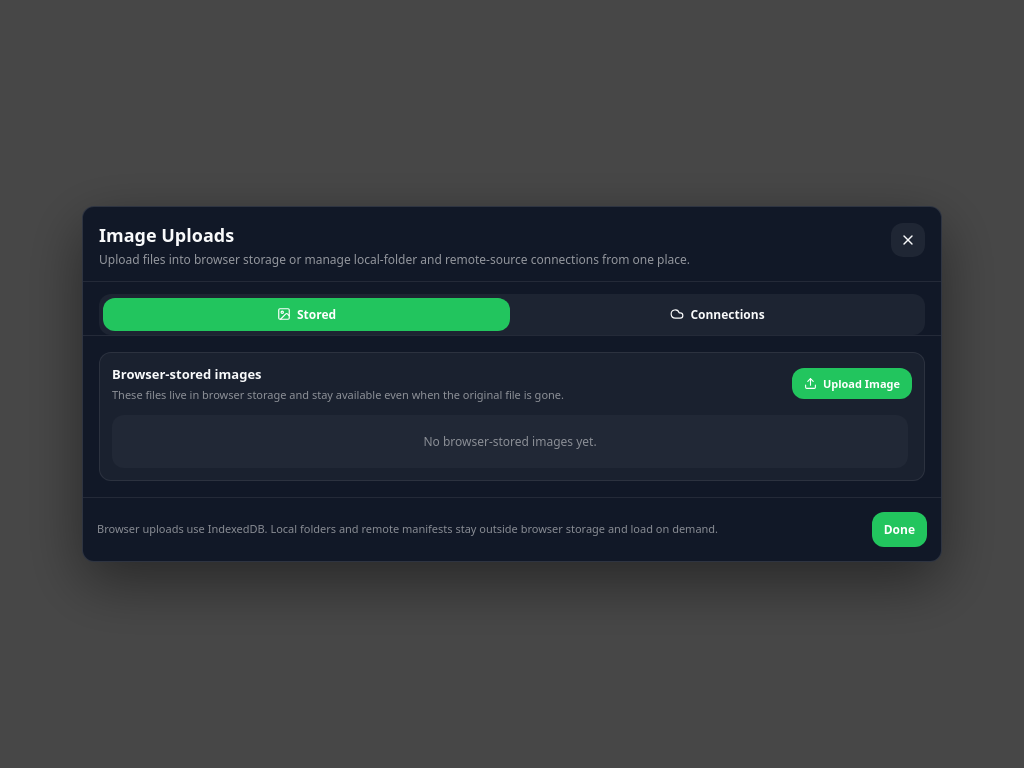
Test case: embeds remote source configuration inside the media uploads modal
Click the button "Connections".
click(718, 314)  # box [514,298,921,331]
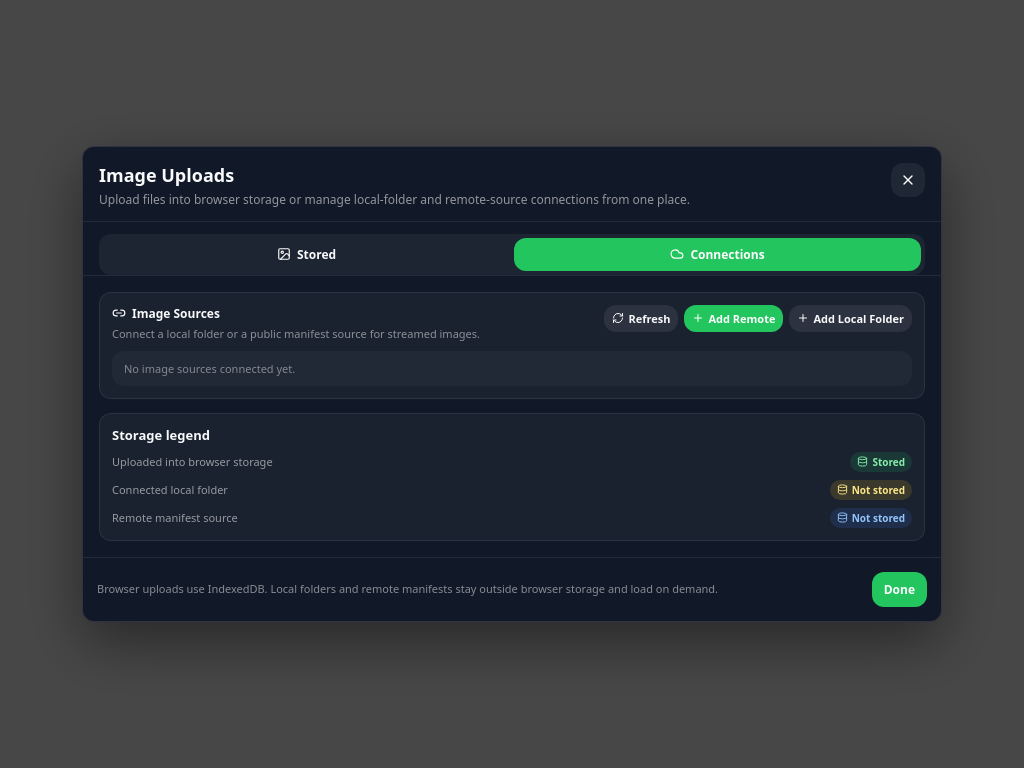
Click the button "Add Remote".
click(734, 318)  # box [684,304,783,332]
(page scrolled)
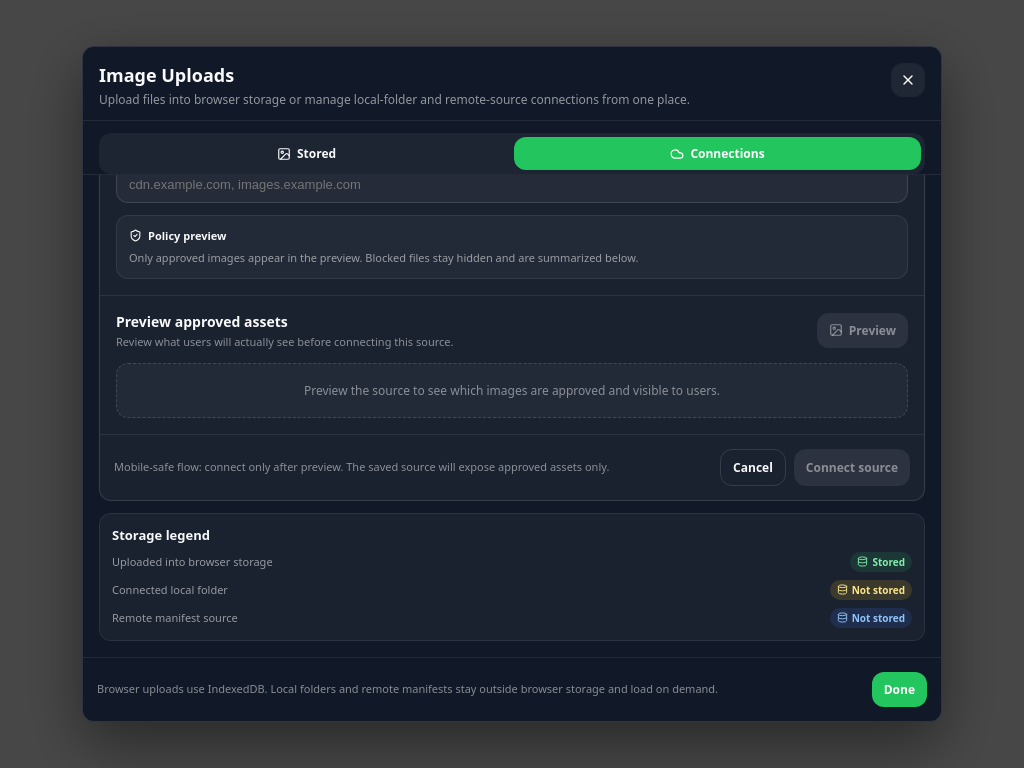
Result: the button "Connect source" is shown at [794,448,910,486]
